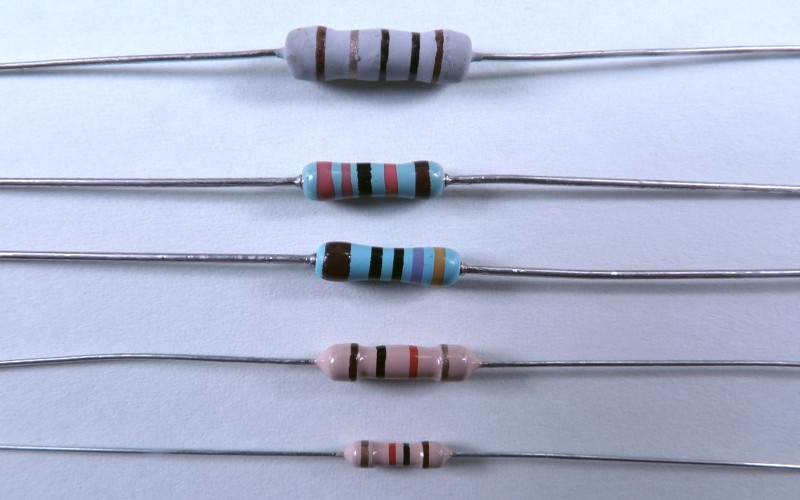Resistor: (266, 135, 483, 298), (316, 317, 472, 476), (266, 19, 487, 115)
